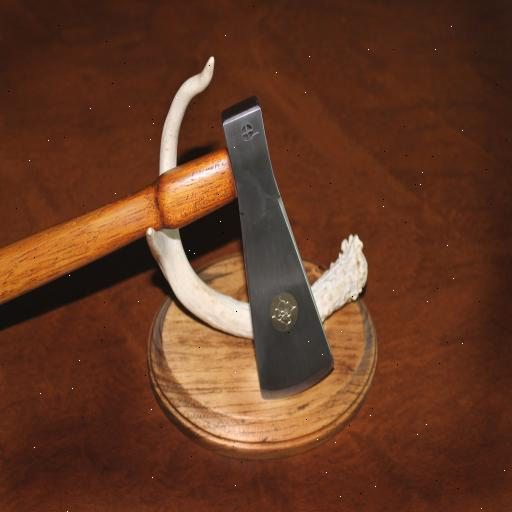Axe: (0, 93, 338, 400)
